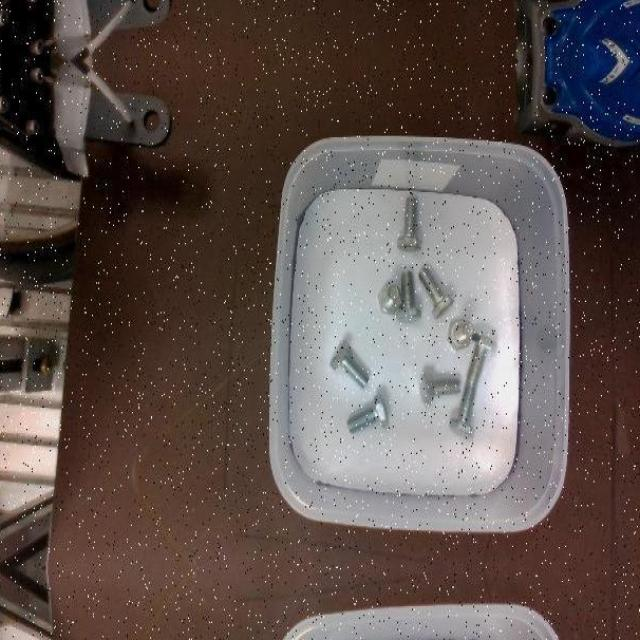screw: (418, 266, 454, 319), (329, 340, 368, 388), (466, 333, 497, 386), (347, 393, 388, 433), (449, 382, 476, 438), (393, 198, 421, 252), (421, 372, 462, 407), (395, 270, 420, 323), (447, 318, 474, 350), (377, 282, 401, 314)
